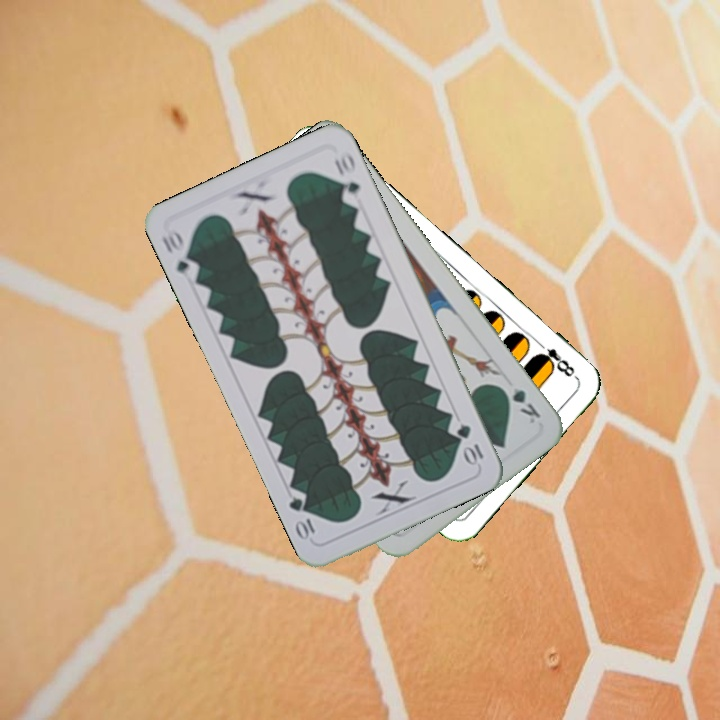E8: (532, 337, 580, 382)
G10: (158, 227, 202, 278), (452, 420, 486, 468)
GK: (496, 381, 544, 427)
